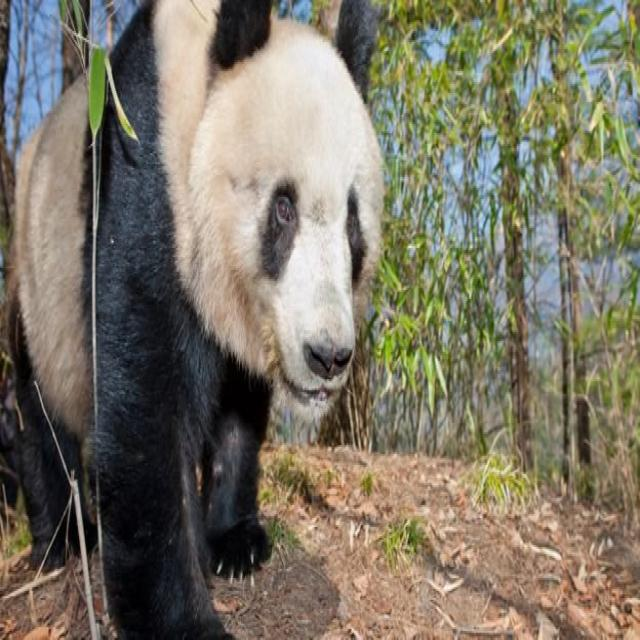Panda: (9, 2, 410, 640)
